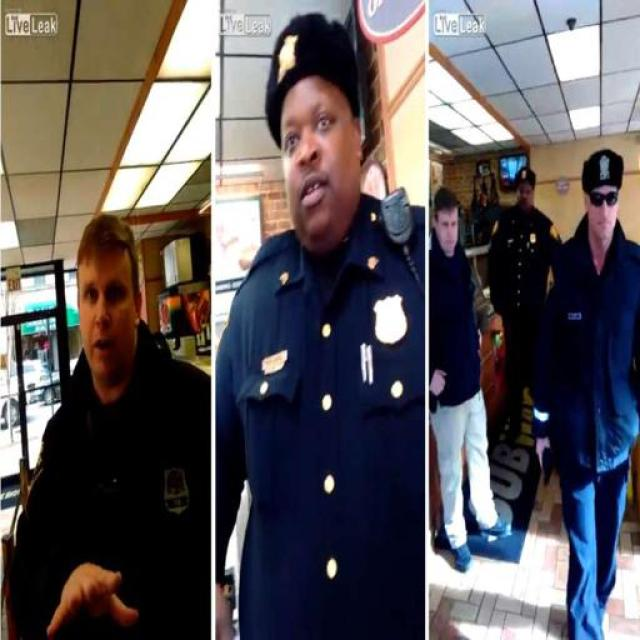pistol: (534, 431, 560, 502)
